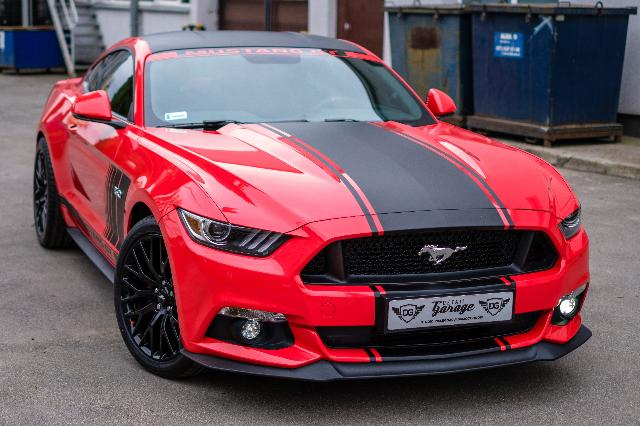ford-mustang: (32, 32, 594, 388)
